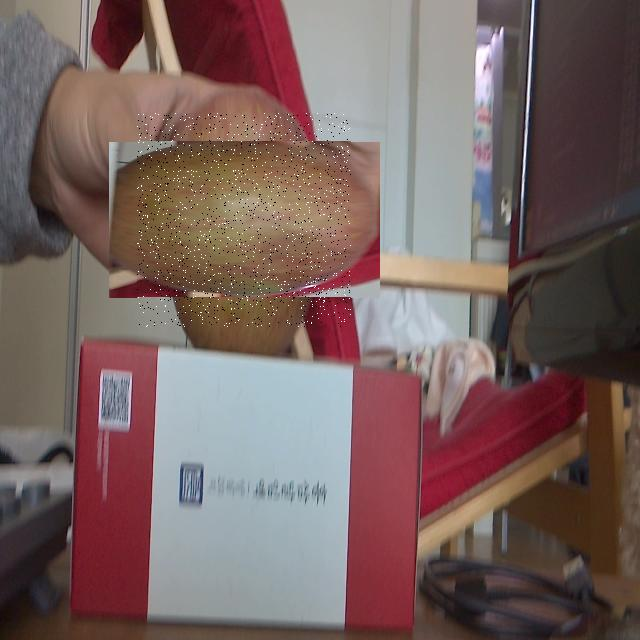apple: (137, 114, 351, 328)
